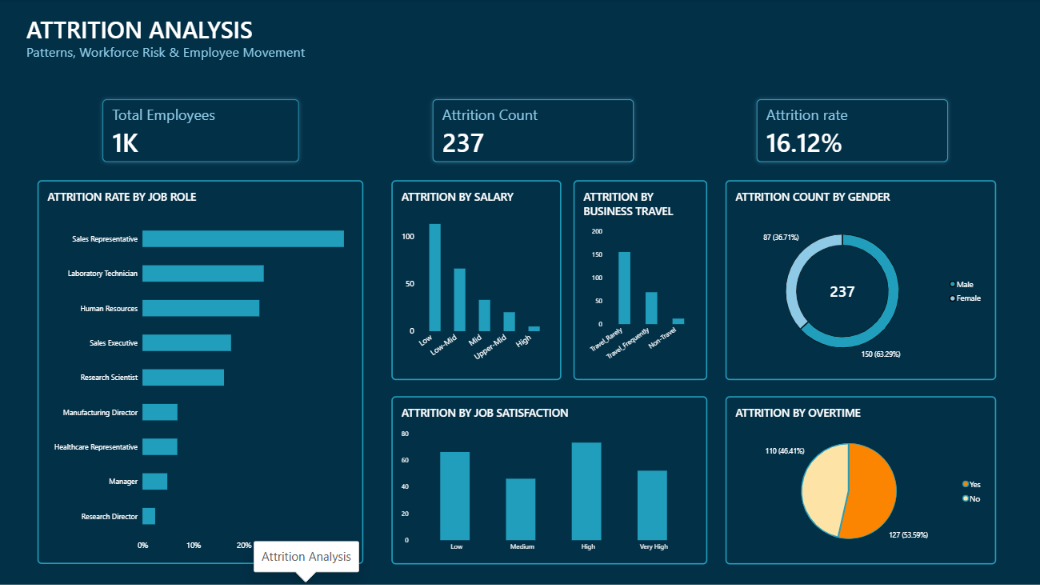

This screenshot's page, from the dashboard's own definition file:
{"tool":"powerbi","page":{"name":"Attrition Analysis","canvas":[1920,1080],"ordinal":1},"visuals":[{"type":"cardVisual","fields":{"Data":["WA_Fn-UseC_-HR-Employee-Attrition.Total Employees"]},"box":[180.4,173,384.7,138],"z":0},{"type":"cardVisual","fields":{"Data":["WA_Fn-UseC_-HR-Employee-Attrition.Attrition Count"]},"box":[787.7,173,393.9,138],"z":1000},{"type":"cardVisual","fields":{"Data":["WA_Fn-UseC_-HR-Employee-Attrition.Attrition rate"]},"box":[1384.1,173,375.5,138],"z":2000},{"type":"pieChart","title":"ATTRITION BY OVERTIME","fields":{"Category":["WA_Fn-UseC_-HR-Employee-Attrition.OverTime"],"Y":["WA_Fn-UseC_-HR-Employee-Attrition.Attrition Count"]},"box":[1338,730.7,498.8,309.2],"z":3000},{"type":"clusteredColumnChart","title":"ATTRITION BY BUSINESS TRAVEL","fields":{"Category":["WA_Fn-UseC_-HR-Employee-Attrition.BusinessTravel"],"Y":["WA_Fn-UseC_-HR-Employee-Attrition.Attrition Count"]},"box":[1058.3,333.1,246.6,368.1],"z":4000},{"type":"clusteredColumnChart","title":"ATTRITION BY SALARY","fields":{"Category":["WA_Fn-UseC_-HR-Employee-Attrition.Salary Band"],"Y":["WA_Fn-UseC_-HR-Employee-Attrition.Attrition Count"]},"box":[723.3,333.1,312.9,368.1],"z":5000},{"type":"clusteredBarChart","title":"ATTRITION RATE BY JOB ROLE","fields":{"Category":["WA_Fn-UseC_-HR-Employee-Attrition.JobRole"],"Y":["WA_Fn-UseC_-HR-Employee-Attrition.Attrition rate"]},"box":[71.8,333.1,600,706.8],"z":6000},{"type":"donutChart","title":"ATTRITION COUNT BY GENDER","fields":{"Category":["WA_Fn-UseC_-HR-Employee-Attrition.Gender"],"Y":["WA_Fn-UseC_-HR-Employee-Attrition.Attrition Count"]},"box":[1338,333.1,498.8,368.1],"z":7000},{"type":"clusteredColumnChart","title":"ATTRITION BY JOB SATISFACTION","fields":{"Category":["WA_Fn-UseC_-HR-Employee-Attrition.Job satisfaction label"],"Y":["WA_Fn-UseC_-HR-Employee-Attrition.Attrition Count"]},"box":[723.3,730.7,581.6,309.2],"z":8000},{"type":"textbox","box":[51.5,25.8,655.2,73.6],"z":13000},{"type":"textbox","box":[51.5,62.6,570.6,60.7],"z":14000}]}

Visuals, with their boxes in screenshot pixels (x1, y1, x2, y2), scaled from the page's 1920x1080 canvas onto the 1040x585 screenshot:
cardVisual - WA_Fn-UseC_-HR-Employee-Attrition.Total Employees: Rect(98, 94, 306, 168)
cardVisual - WA_Fn-UseC_-HR-Employee-Attrition.Attrition Count: Rect(427, 94, 640, 168)
cardVisual - WA_Fn-UseC_-HR-Employee-Attrition.Attrition rate: Rect(750, 94, 953, 168)
"ATTRITION BY OVERTIME" pieChart: Rect(725, 396, 995, 563)
"ATTRITION BY BUSINESS TRAVEL" clusteredColumnChart: Rect(573, 180, 707, 380)
"ATTRITION BY SALARY" clusteredColumnChart: Rect(392, 180, 561, 380)
"ATTRITION RATE BY JOB ROLE" clusteredBarChart: Rect(39, 180, 364, 563)
"ATTRITION COUNT BY GENDER" donutChart: Rect(725, 180, 995, 380)
"ATTRITION BY JOB SATISFACTION" clusteredColumnChart: Rect(392, 396, 707, 563)
textbox: Rect(28, 14, 383, 54)
textbox: Rect(28, 34, 337, 67)
